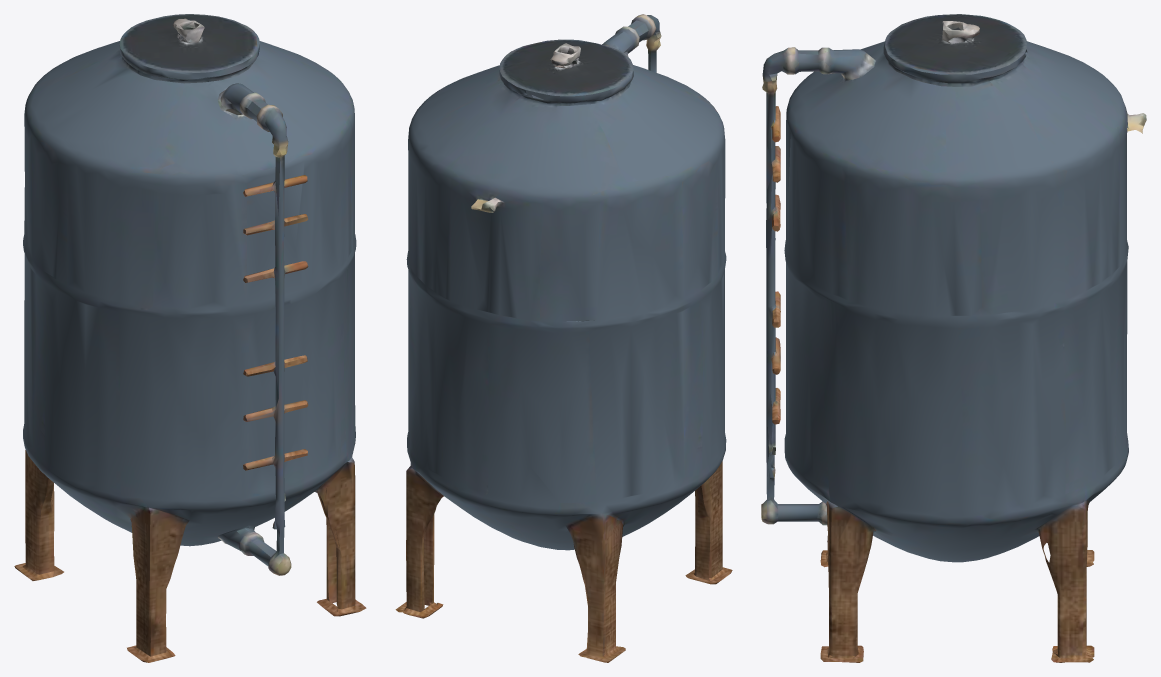
Rendered from tank.glb.
3 renders of one model, left to right at view 1: azimuth 30°, elevation 25°; view 2: azimuth 150°, elevation 25°; view 3: azimuth 270°, elevation 25°, orthographic. The views are drawn at different scales.
Parts seen in each view (by area): view 1: tank; view 2: tank; view 3: tank.
Part boxes in pixels (<box>): tank: <box>14,14,366,662</box>; tank: <box>395,14,732,662</box>; tank: <box>761,14,1146,662</box>.
Size of the model in its own units: 2.24 by 4.2 by 2.52.
1 material, 1 textured.
